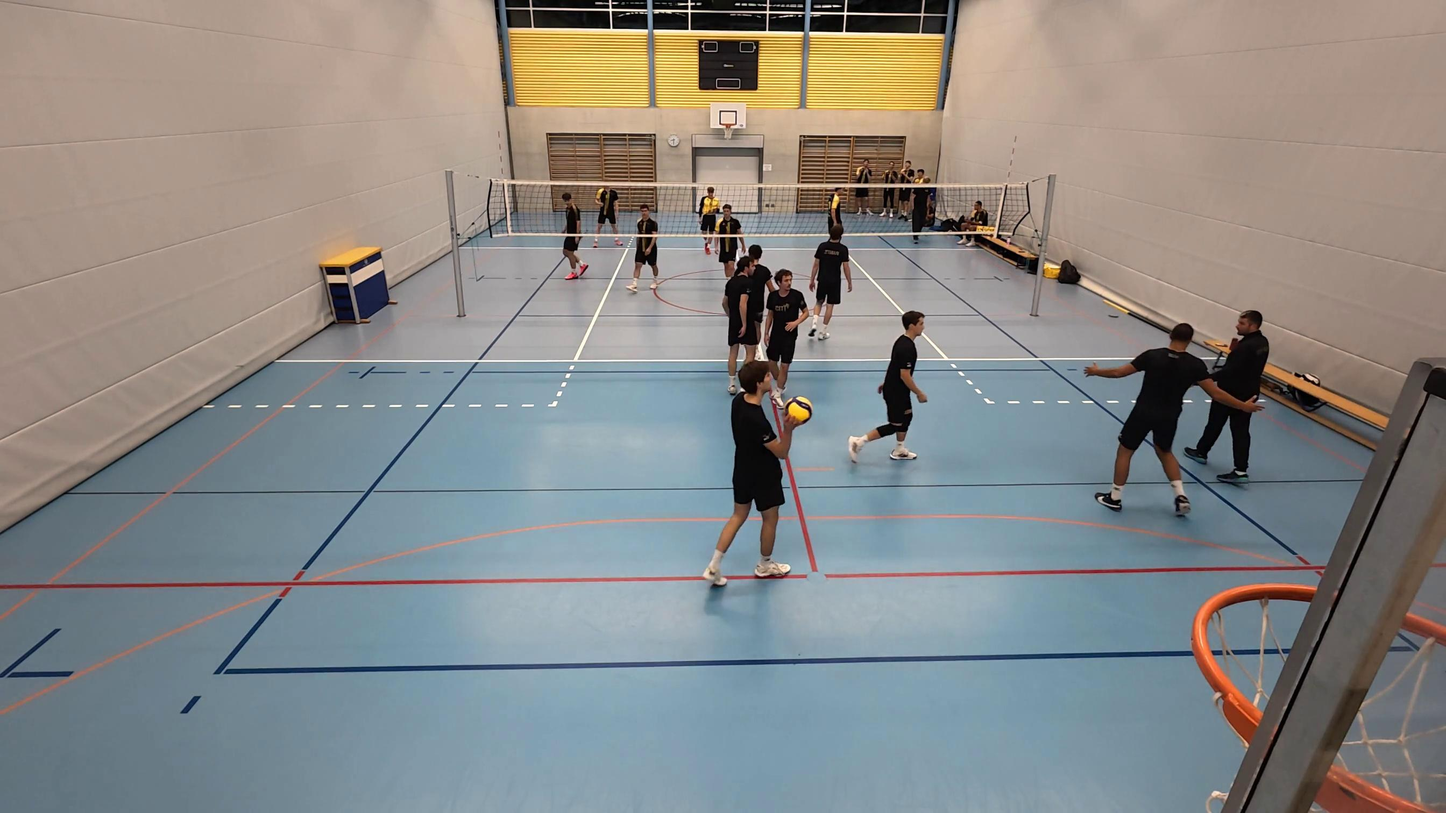Player: (1084, 323, 1264, 517), (702, 357, 796, 587), (847, 310, 927, 462), (762, 267, 809, 405), (724, 246, 767, 387), (807, 222, 853, 341), (628, 204, 661, 294), (709, 204, 744, 277), (562, 191, 588, 280), (594, 182, 622, 248), (697, 186, 719, 249)
ball: (785, 396, 811, 422)
